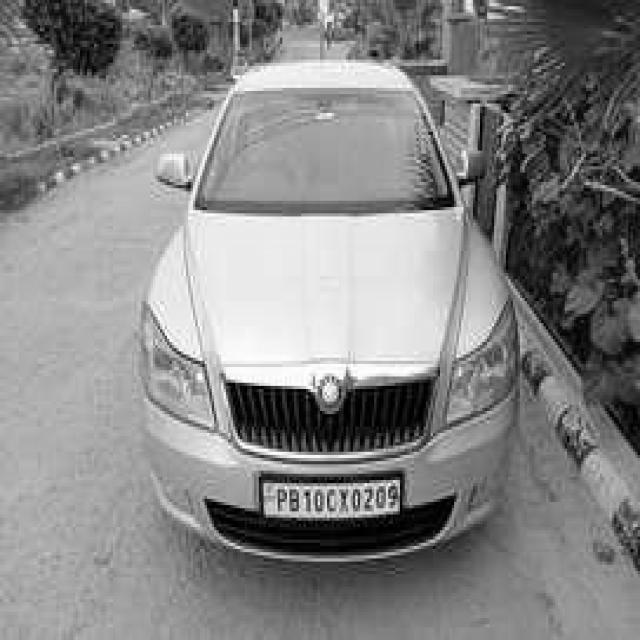car: (139, 56, 522, 562)
license-plate: (261, 470, 405, 518)
